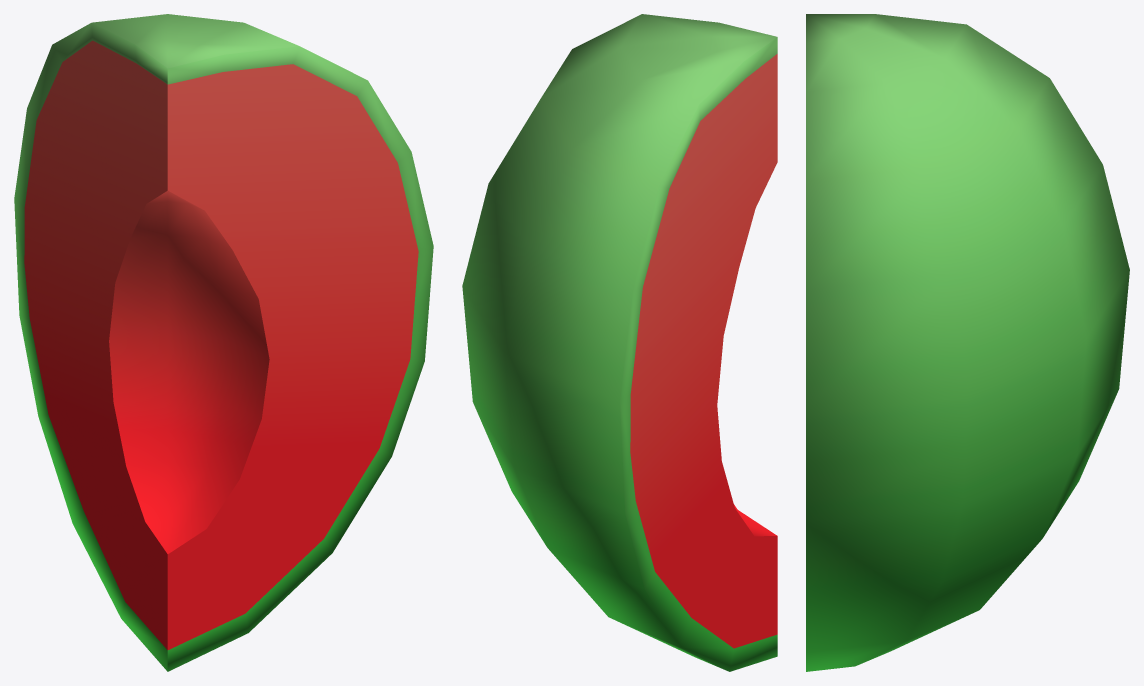
File: Plum_half_03_red.fbx
The picture shows the model from 3 angles, left to right: view 1: azimuth 30°, elevation 25°; view 2: azimuth 150°, elevation 25°; view 3: azimuth 270°, elevation 25°; orthographic projection. The views are drawn at different scales.
Parts seen in each view (by area): view 1: Plum_half_03_red; view 2: Plum_half_03_red; view 3: Plum_half_03_red.
Boxes of the visible parts, box(x1,y1,x2,y2) form: Plum_half_03_red: box(14, 14, 433, 671); Plum_half_03_red: box(462, 14, 777, 671); Plum_half_03_red: box(806, 14, 1129, 671).
Size of the model in its own units: 36.14 by 78.38 by 36.14.
